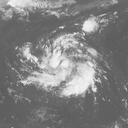cyclone: (17, 32, 106, 99)
